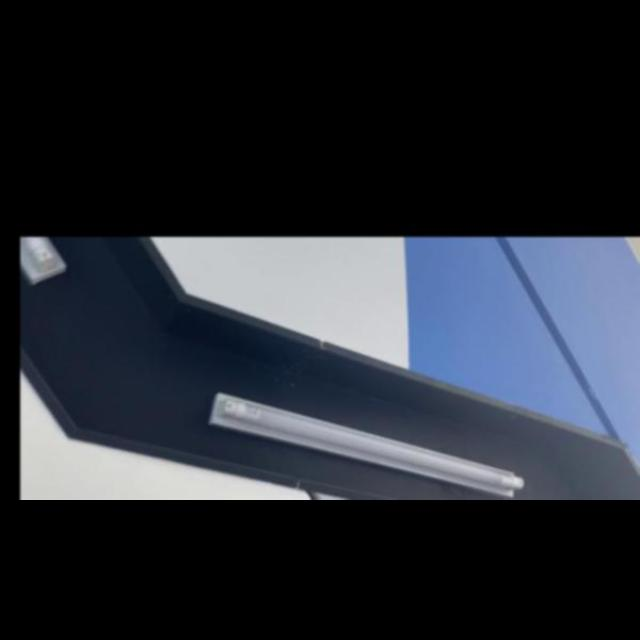Straight-Tube-Fluorescent-Lamp: (207, 372, 538, 501)
